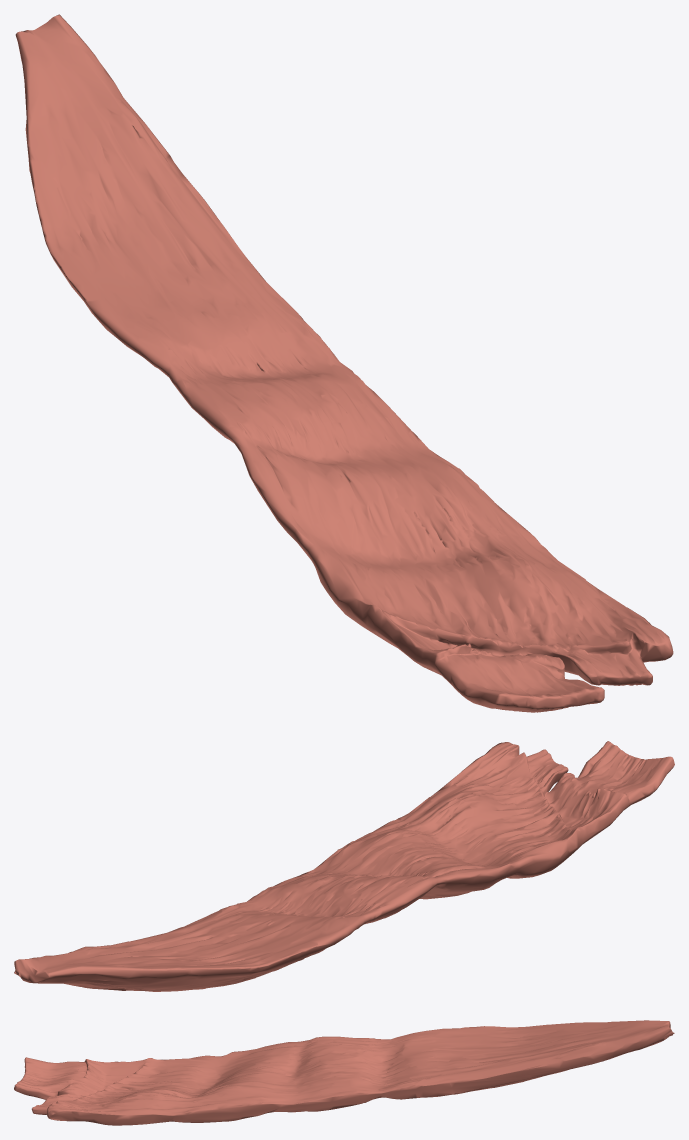
3 views of the same model, one above another, from view 1: azimuth 30°, elevation 25°; view 2: azimuth 150°, elevation 25°; view 3: azimuth 270°, elevation 25° (orthographic). The views are drawn at different scales.
Visible parts, largest first — view 1: 右侧腹直肌; view 2: 右侧腹直肌; view 3: 右侧腹直肌.
Part boxes in pixels (x1,y1,x2,y2): 右侧腹直肌: [15, 14, 673, 712]; 右侧腹直肌: [14, 741, 674, 991]; 右侧腹直肌: [14, 1020, 674, 1125].
Bounding box in the file's own units: 0.1158 × 0.11 × 0.6018.
